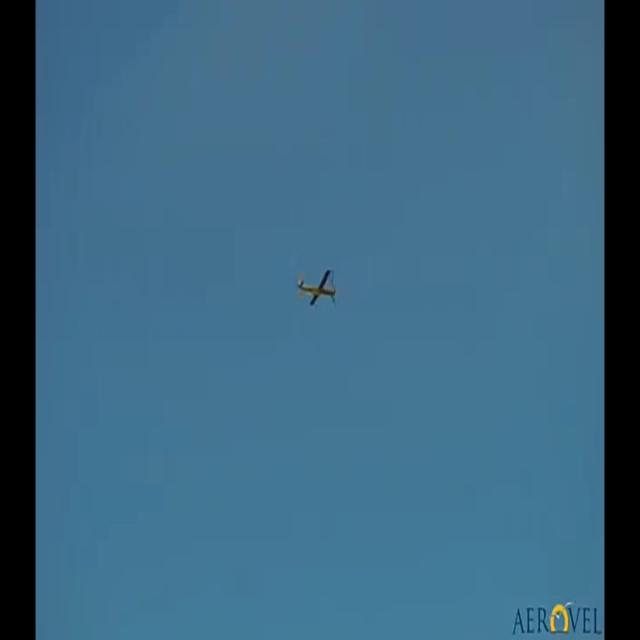iha: (297, 267, 338, 310)
